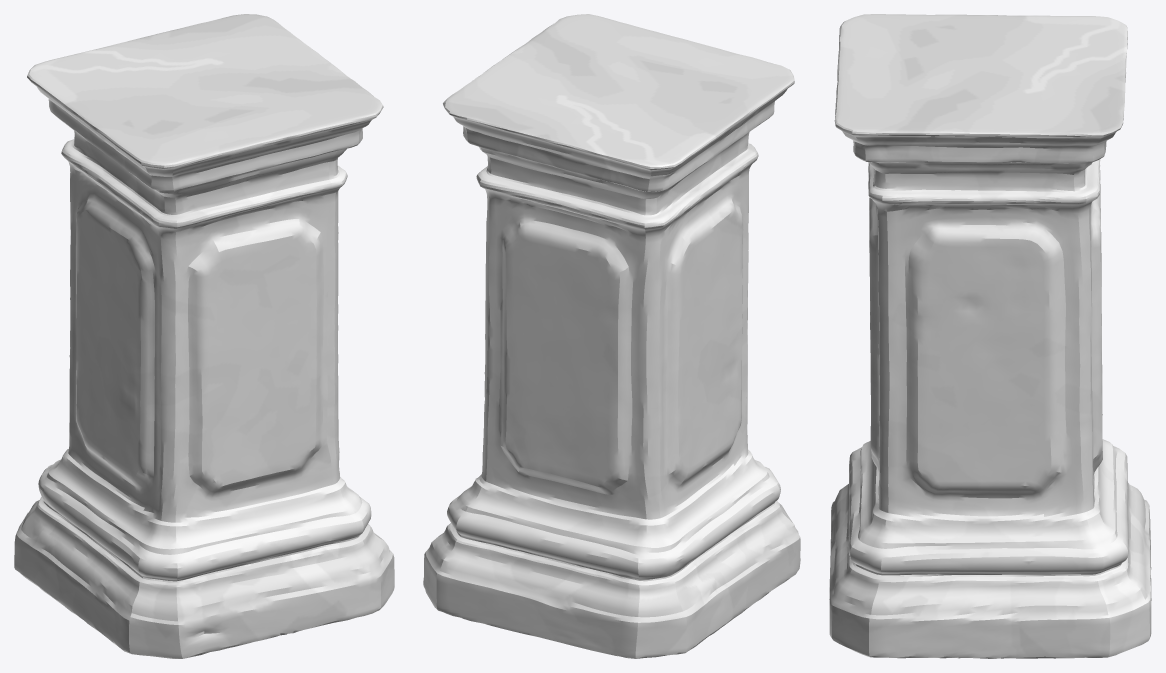
File: columna.obj
3 views of the same model, side by side, from view 1: azimuth 30°, elevation 25°; view 2: azimuth 150°, elevation 25°; view 3: azimuth 270°, elevation 25° (orthographic). The views are drawn at different scales.
Visible parts, largest first — view 1: CLASSIC_COLUMN; view 2: CLASSIC_COLUMN; view 3: CLASSIC_COLUMN.
Part boxes in pixels (box(x1,y1,x2,y2)): CLASSIC_COLUMN: box(14, 14, 394, 658); CLASSIC_COLUMN: box(423, 14, 800, 658); CLASSIC_COLUMN: box(829, 14, 1151, 658).
Bounding box in the file's own units: 2.17 × 3.85 × 2.17.
Materials: 1 (1 with a texture image).
